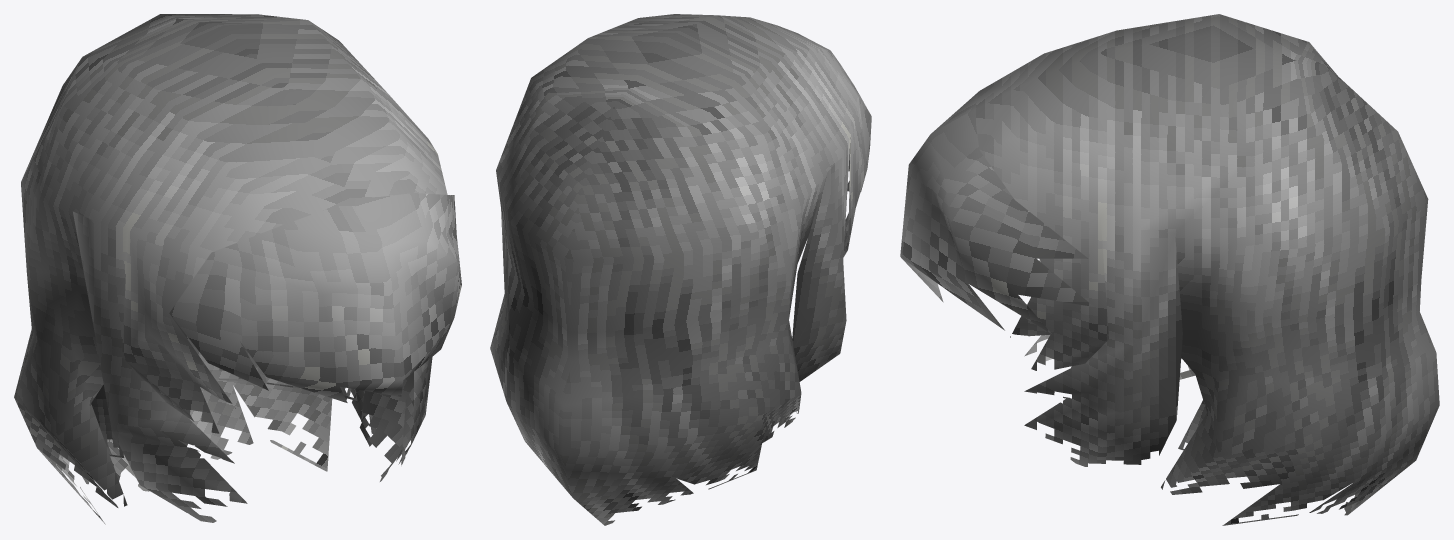
File: m_body008.glb
The picture shows the model from 3 angles, left to right: view 1: azimuth 30°, elevation 25°; view 2: azimuth 150°, elevation 25°; view 3: azimuth 270°, elevation 25°; orthographic projection. The views are drawn at different scales.
Bounding box in the file's own units: 18.07 × 26.37 × 26.86.
Materials: 1 (1 with a texture image).
